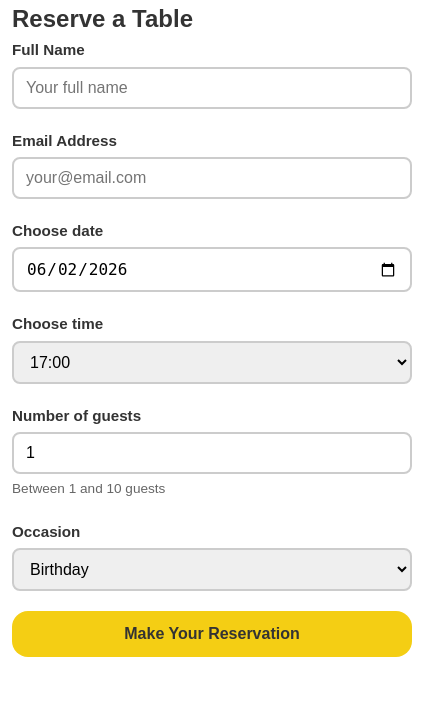
Shows validation error for empty name
Step 1. Click the button with aria-label "submit table reservation" → (212,634), box x1=12 y1=611 x2=412 y2=657
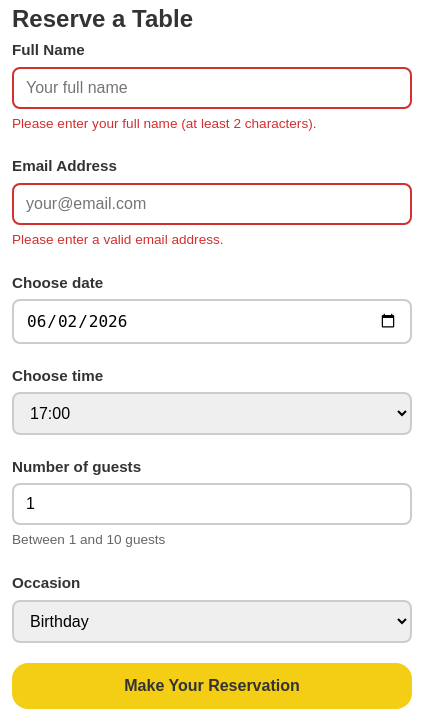
Result: the text "Please enter your full name (at least 2 characters)." is shown at x1=12 y1=116 x2=316 y2=131
